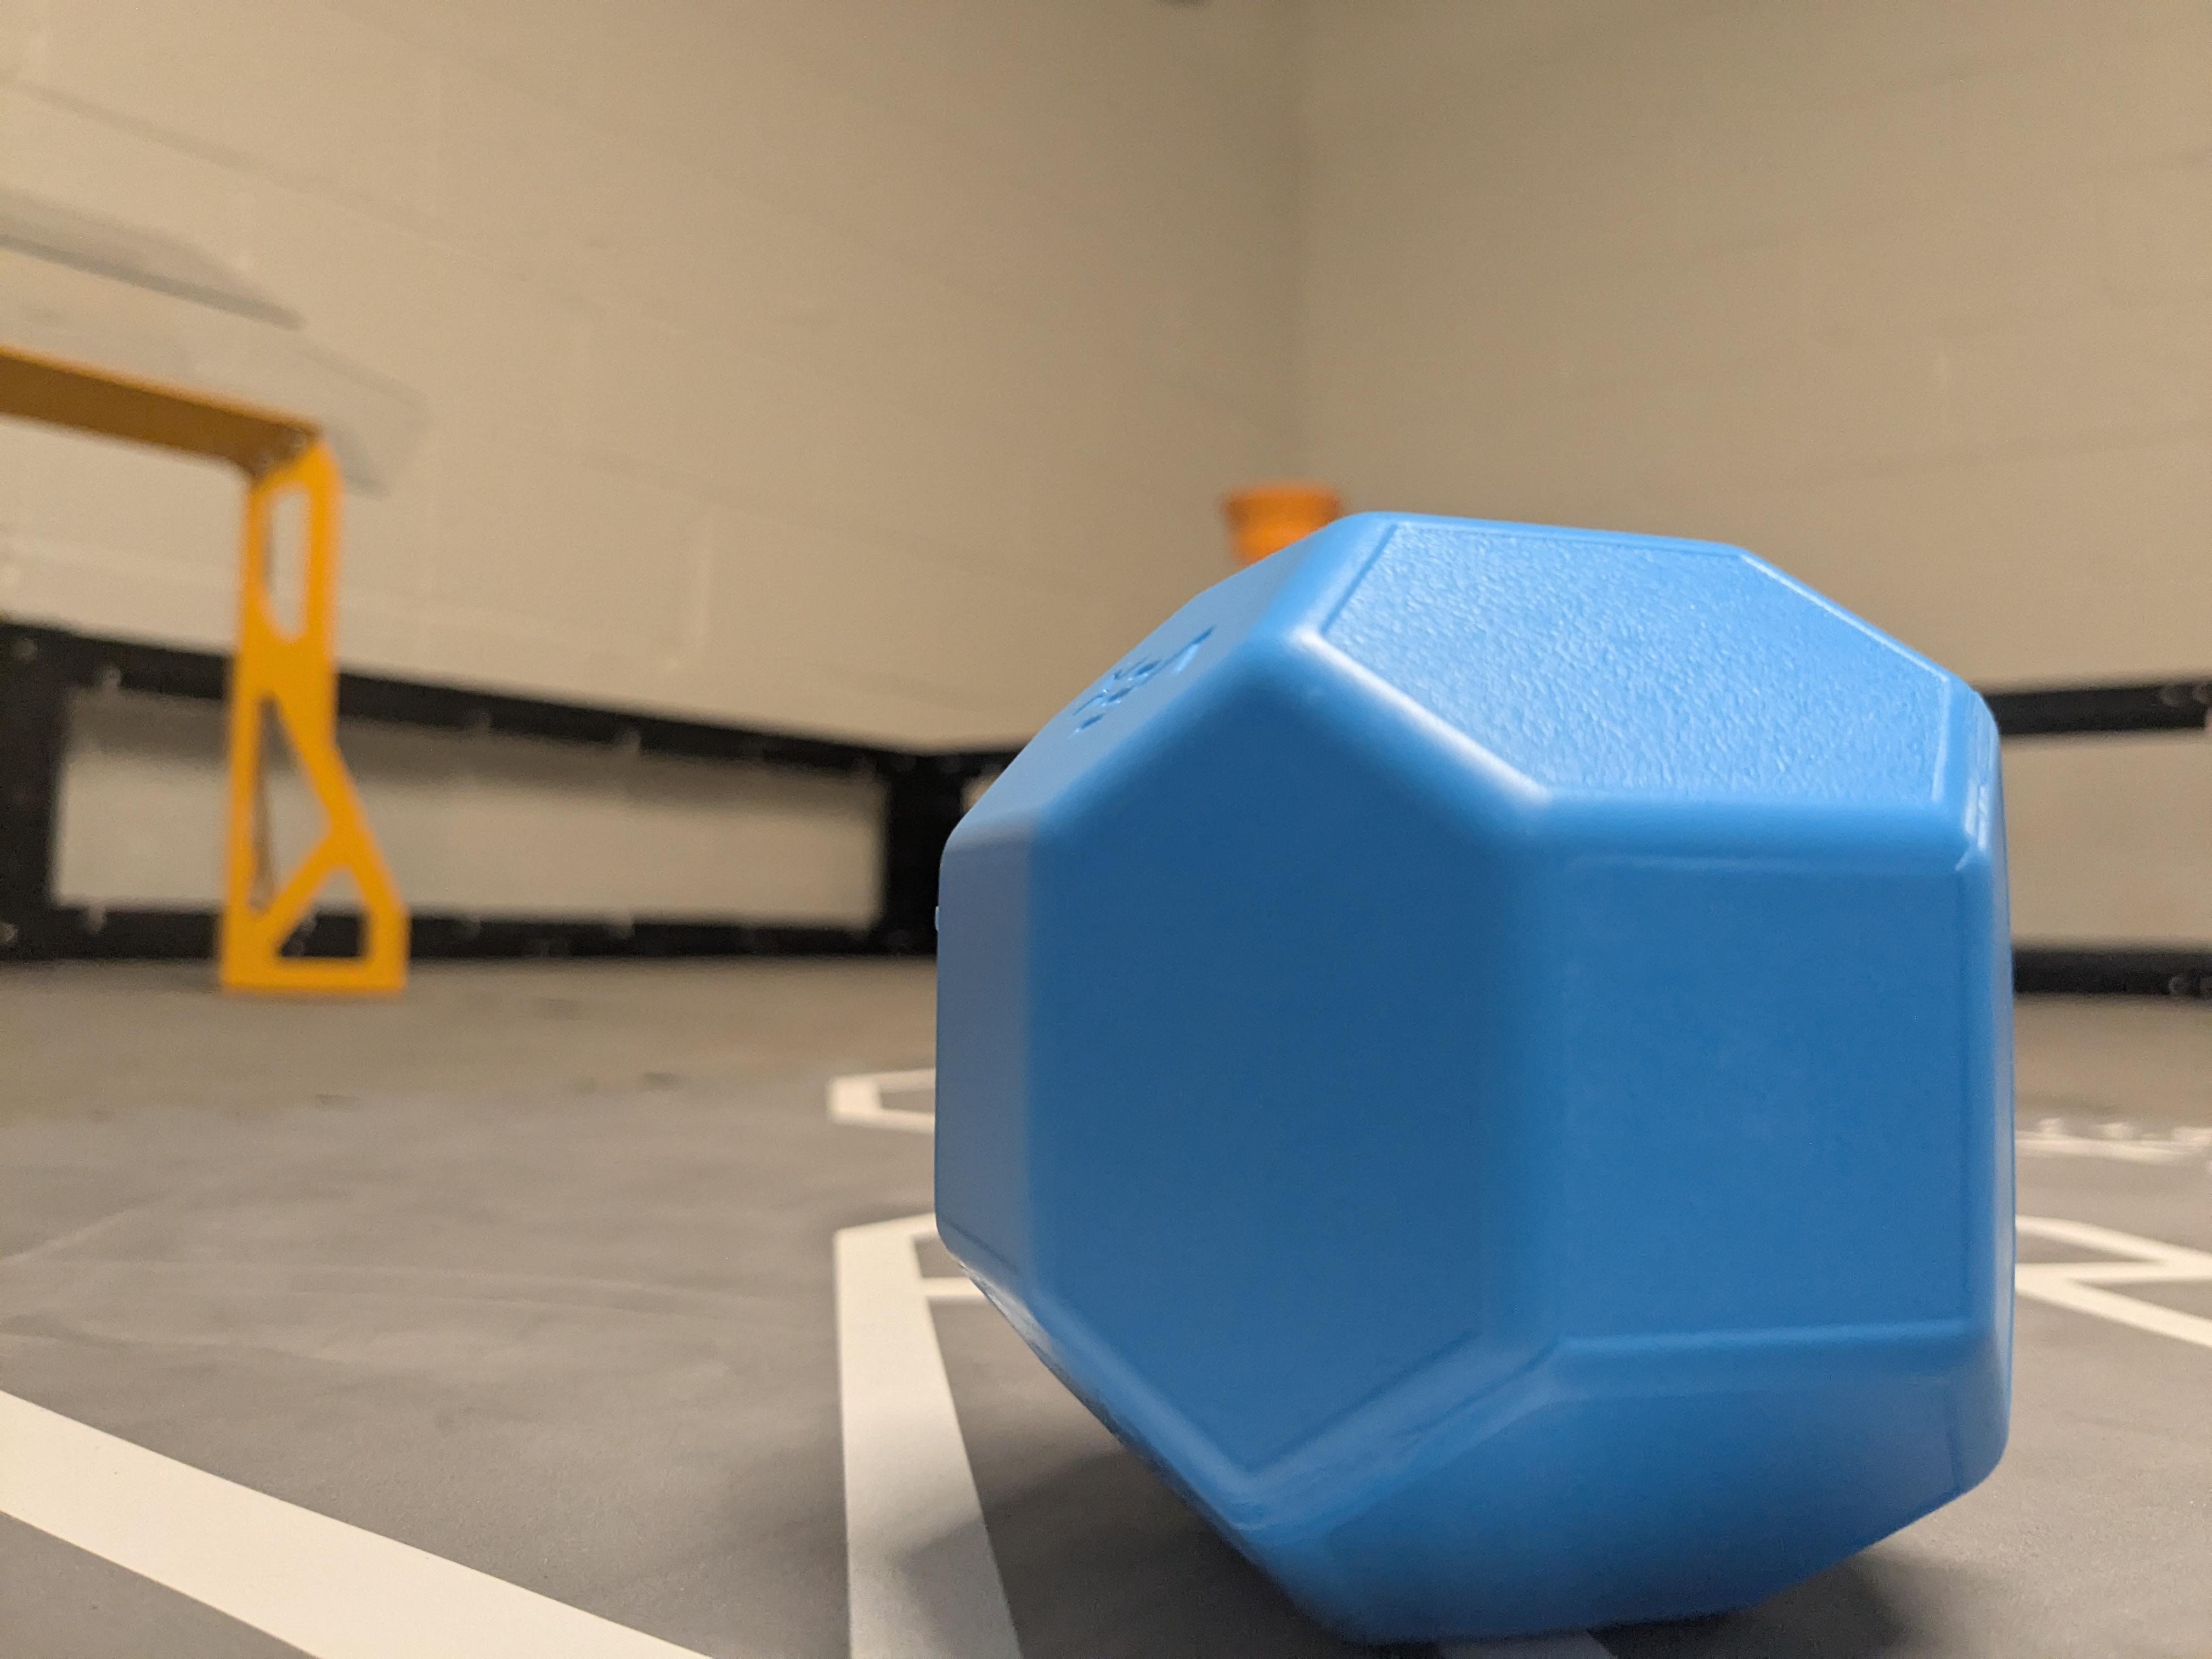Vex-Pieces-BLUE: (937, 514, 2013, 1638)
